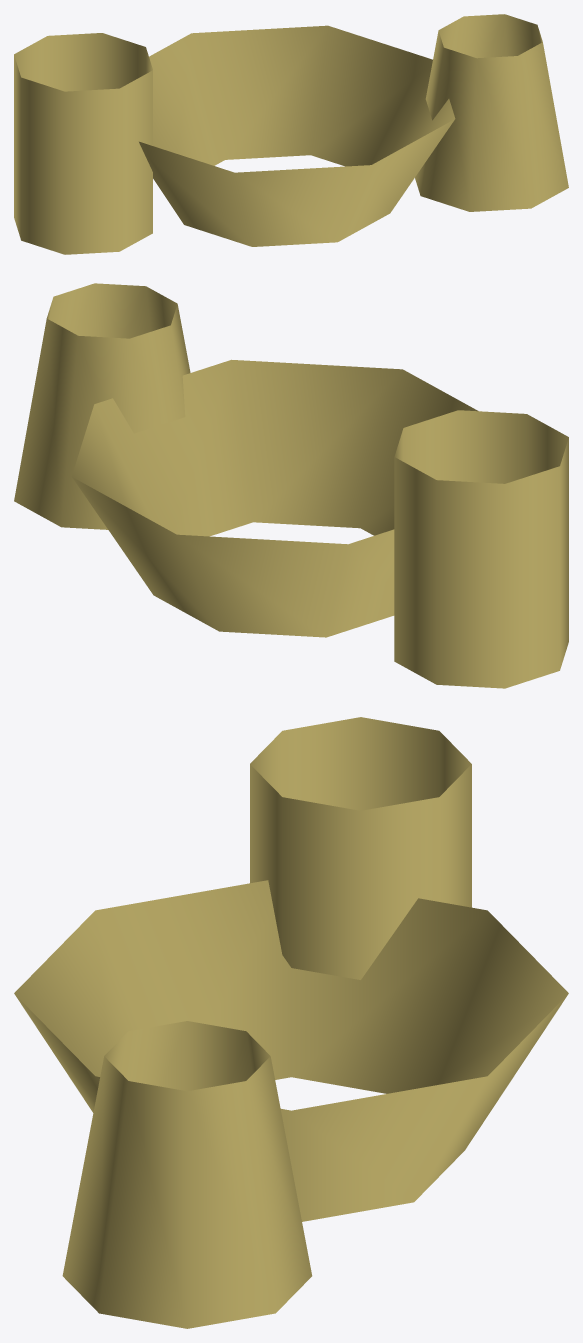
Rendered from brass_vessels.glb.
3 views of the same model, one above another, from view 1: azimuth 30°, elevation 25°; view 2: azimuth 150°, elevation 25°; view 3: azimuth 270°, elevation 25° (orthographic). The views are drawn at different scales.
Parts seen in each view (by area): view 1: Uruli_Wide_Node, MilkCan_Gunda_Node, Chembu_Water_Node; view 2: Uruli_Wide_Node, MilkCan_Gunda_Node, Chembu_Water_Node; view 3: Uruli_Wide_Node, Chembu_Water_Node, MilkCan_Gunda_Node.
Boxes of the visible parts, box(x1,y1,x2,y2) form: Uruli_Wide_Node: box(139, 25, 455, 246); MilkCan_Gunda_Node: box(14, 33, 152, 254); Chembu_Water_Node: box(415, 14, 568, 211); Uruli_Wide_Node: box(71, 359, 478, 637); MilkCan_Gunda_Node: box(394, 410, 568, 688); Chembu_Water_Node: box(14, 283, 190, 529); Uruli_Wide_Node: box(14, 880, 568, 1221); Chembu_Water_Node: box(62, 1021, 312, 1328); MilkCan_Gunda_Node: box(250, 717, 471, 979).
Size of the model in its own units: 1.24 by 0.405 by 0.8.
